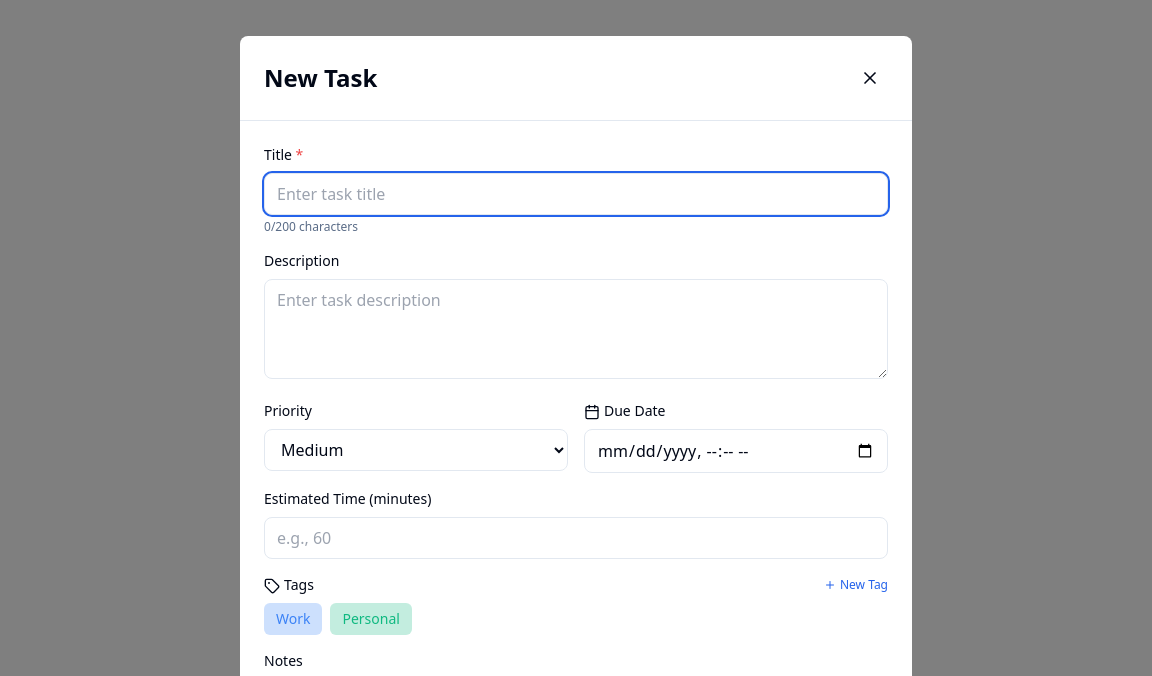
Test case: TaskDialog › toggles tag selection
This screenshot has width=1152, height=676.
Click the button "Work": (293, 619) [264,603,322,635]
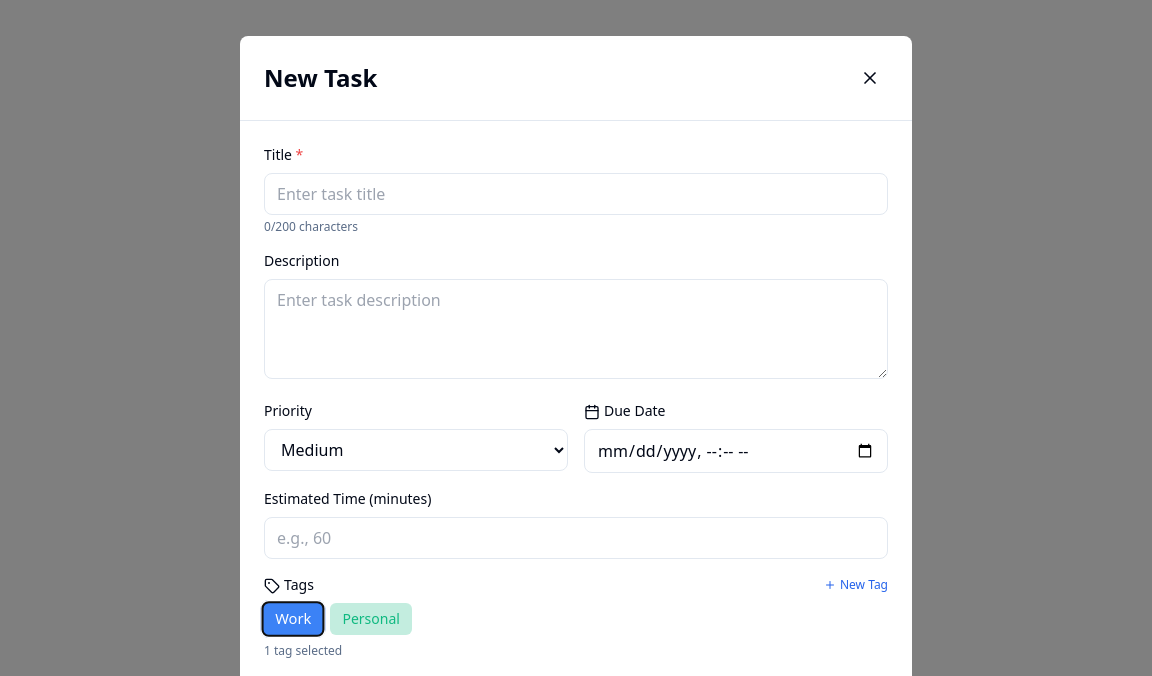
Now the text "1 tag selected" is shown, box [264,642,342,659]
Click the button "Work": (293, 619) [262,602,324,636]
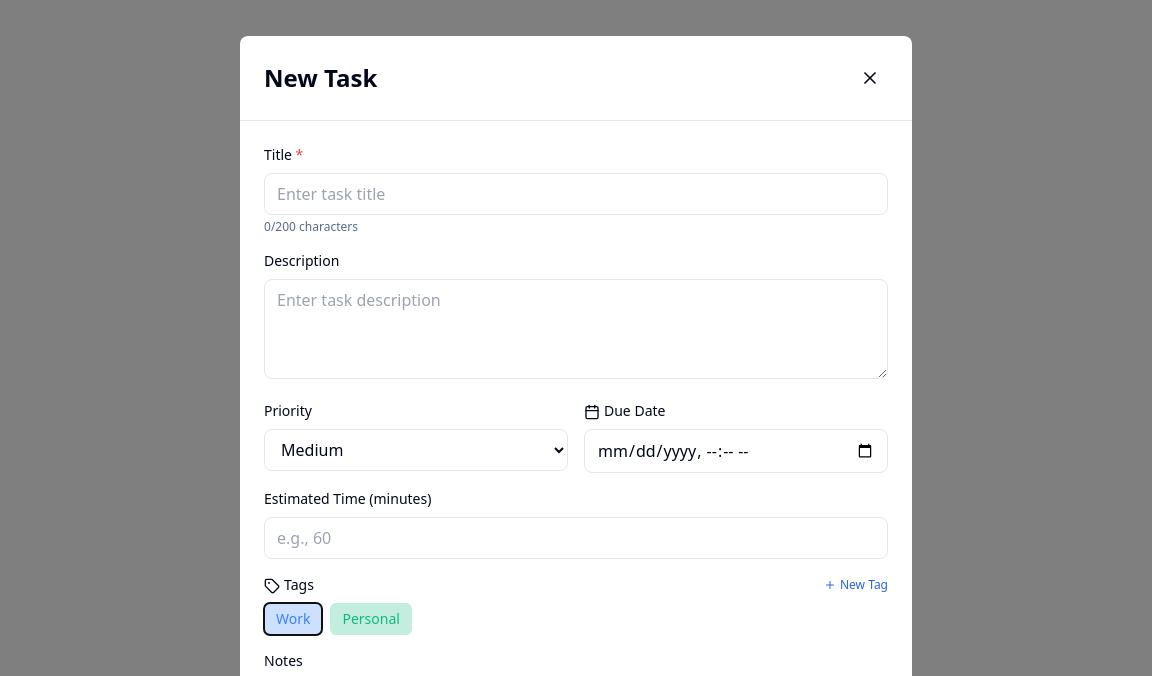
Now the text "1 tag selected" is gone
